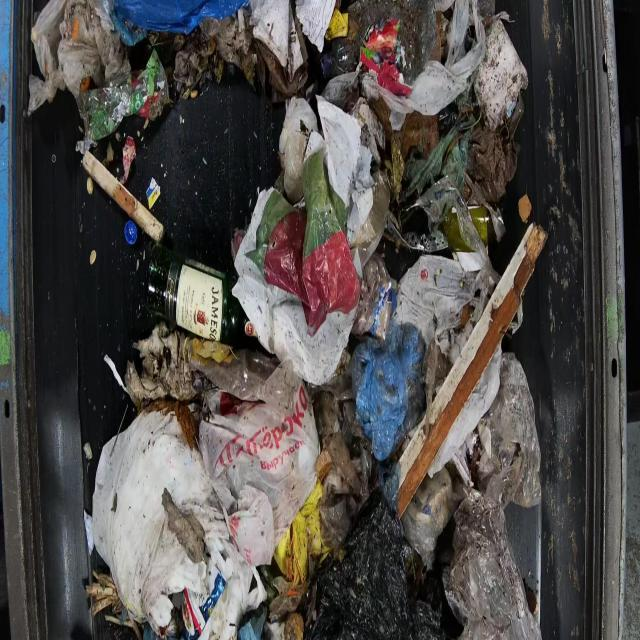bottles: (141, 246, 257, 348)
other-trash: (27, 0, 544, 638)
